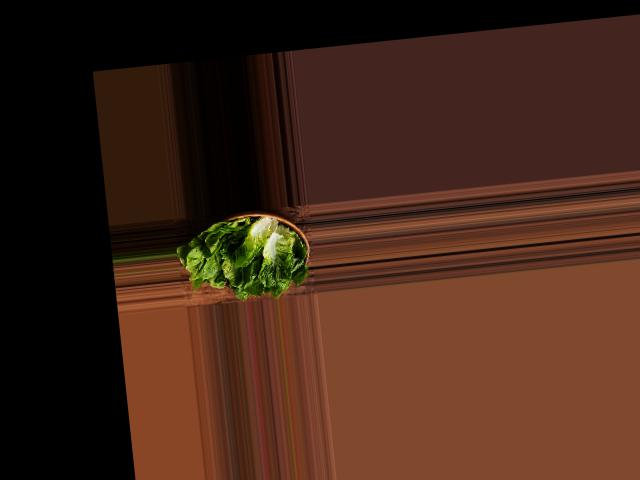lettuce: (175, 205, 318, 303)
